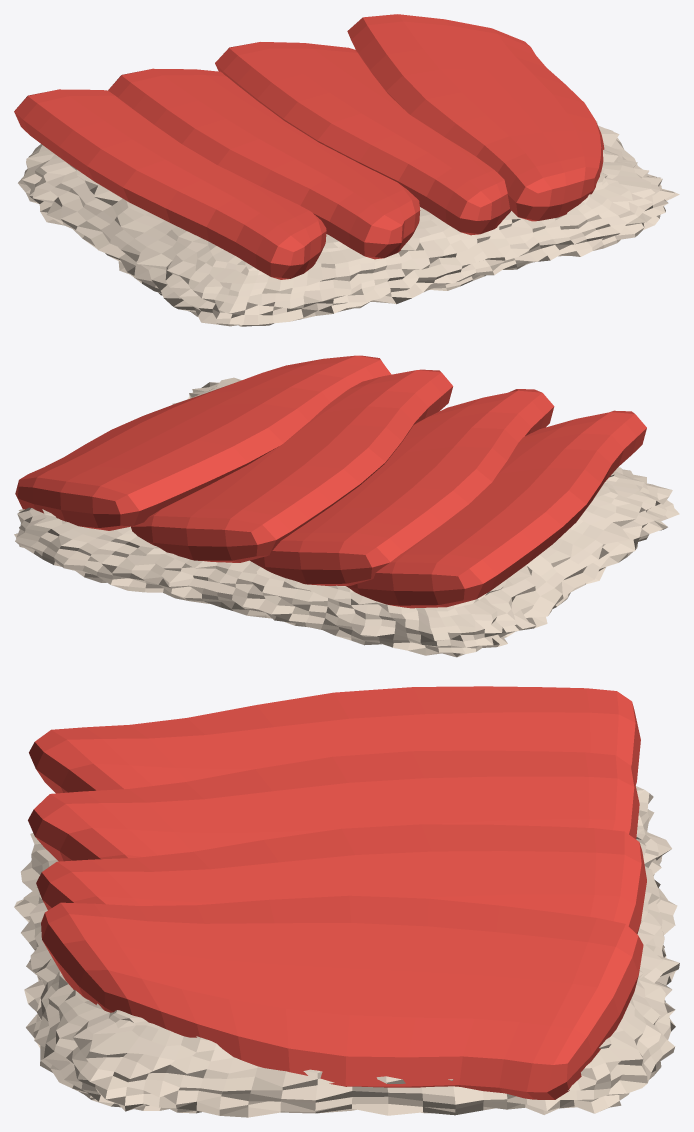
File: tunarice.glb
3 views of the same model, one above another, from view 1: azimuth 30°, elevation 25°; view 2: azimuth 150°, elevation 25°; view 3: azimuth 270°, elevation 25° (orthographic). The views are drawn at different scales.
Parts seen in each view (by area): view 1: choppedtuna, spreadrice; view 2: choppedtuna, spreadrice; view 3: choppedtuna, spreadrice.
Part boxes in pixels (bbox=[...]): choppedtuna: bbox=[14, 14, 604, 279]; spreadrice: bbox=[18, 121, 679, 326]; choppedtuna: bbox=[15, 355, 646, 608]; spreadrice: bbox=[14, 377, 679, 657]; choppedtuna: bbox=[28, 686, 646, 1099]; spreadrice: bbox=[14, 786, 679, 1117].
Size of the model in its own units: 3.47 by 0.6133 by 2.89.
